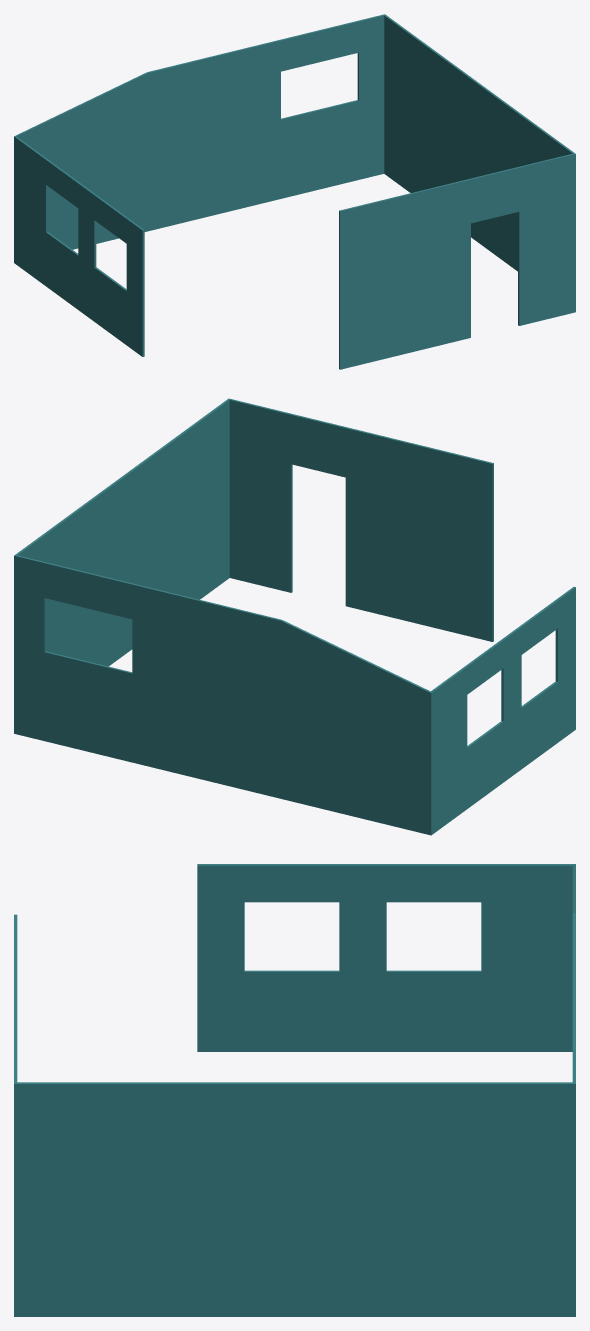
File: Bedroom Low.fbx
3 renders of one model, top to bottom at view 1: azimuth 30°, elevation 25°; view 2: azimuth 150°, elevation 25°; view 3: azimuth 270°, elevation 25°, orthographic. The views are drawn at different scales.
Parts seen in each view (by area): view 1: Bedroom_01_low, Bedroom_03_low, Bedroom_02_low, Bedroom_04_low; view 2: Bedroom_01_low, Bedroom_03_low, Bedroom_02_low, Bedroom_04_low; view 3: Bedroom_02_low, Bedroom_04_low, Bedroom_01_low, Bedroom_03_low.
Boxes of the visible parts, x1,y1,x2,y2 form: Bedroom_01_low: [15, 14, 384, 249]; Bedroom_03_low: [339, 153, 573, 369]; Bedroom_02_low: [383, 14, 575, 312]; Bedroom_04_low: [14, 136, 144, 356]; Bedroom_01_low: [16, 555, 431, 834]; Bedroom_03_low: [229, 399, 493, 641]; Bedroom_02_low: [14, 398, 230, 733]; Bedroom_04_low: [429, 587, 575, 835]; Bedroom_02_low: [14, 1082, 575, 1316]; Bedroom_04_low: [197, 864, 575, 1051]; Bedroom_01_low: [572, 864, 575, 1082]; Bedroom_03_low: [14, 914, 17, 1082].
Size of the model in its own units: 8.4 by 3.42 by 7.49.
